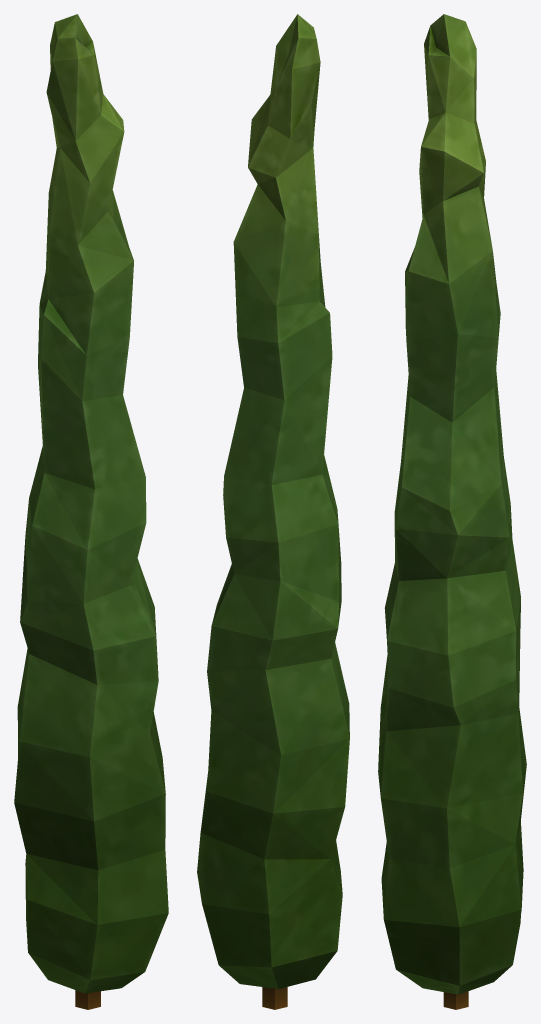
Rendered from cypress.glb.
3 views of the same model, side by side, from view 1: azimuth 30°, elevation 25°; view 2: azimuth 150°, elevation 25°; view 3: azimuth 270°, elevation 25° (orthographic).
Parts seen in each view (by area): view 1: CypressTree_mesh; view 2: CypressTree_mesh; view 3: CypressTree_mesh.
Boxes of the visible parts, x1,y1,x2,y2 form: CypressTree_mesh: (14,14,168,1009); CypressTree_mesh: (197,14,349,1009); CypressTree_mesh: (378,14,526,1009).
Bounding box in the file's own units: 2.03 × 12.99 × 1.78.
Materials: 1 (1 with a texture image).
